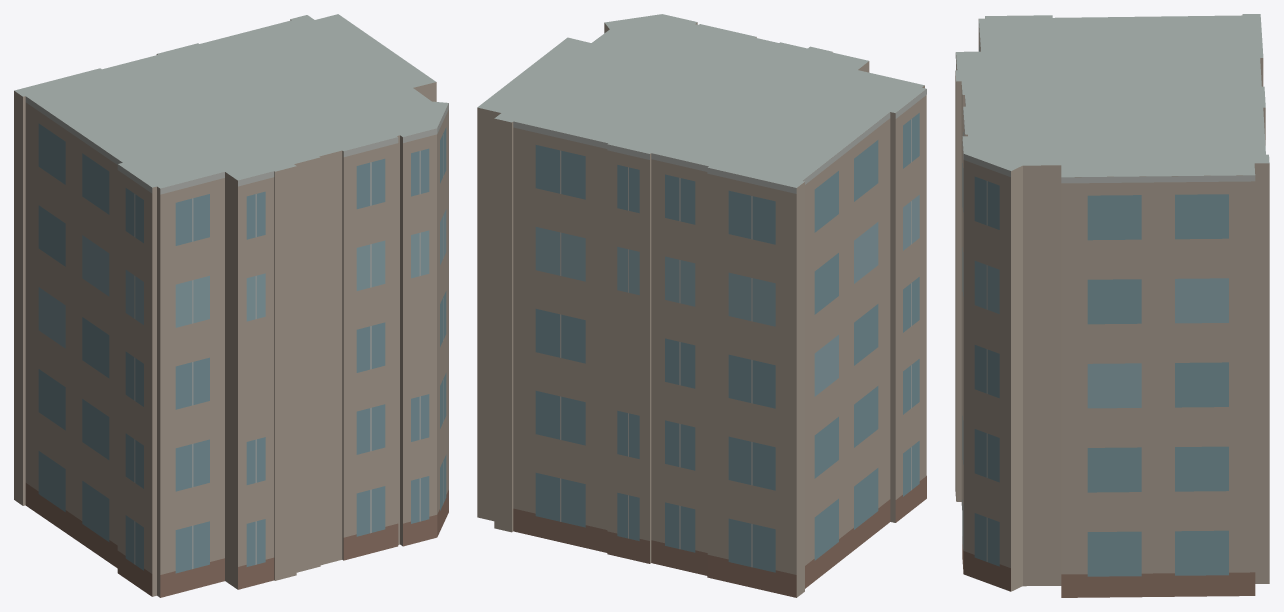
The model's file is survey-upis-32864761.glb.
The picture shows the model from 3 angles, left to right: view 1: azimuth 30°, elevation 25°; view 2: azimuth 150°, elevation 25°; view 3: azimuth 270°, elevation 25°; orthographic projection. The views are drawn at different scales.
Visible parts, largest first — view 1: survey-upis-32864761.tmp; view 2: survey-upis-32864761.tmp; view 3: survey-upis-32864761.tmp.
Boxes of the visible parts, x1=… form: survey-upis-32864761.tmp: x1=14, y1=14, x2=448, y2=597; survey-upis-32864761.tmp: x1=477, y1=14, x2=926, y2=597; survey-upis-32864761.tmp: x1=955, y1=14, x2=1269, y2=597.
Size of the model in its own units: 13.83 by 16.6 by 11.23.
